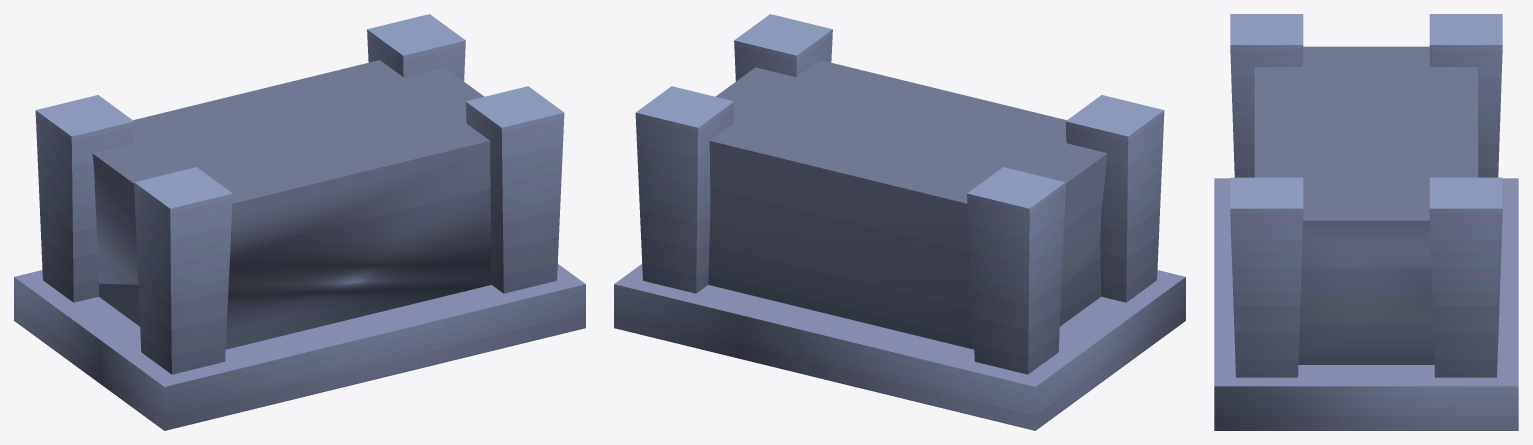
The model's file is altar-stone.glb.
The picture shows the model from 3 angles, left to right: view 1: azimuth 30°, elevation 25°; view 2: azimuth 150°, elevation 25°; view 3: azimuth 270°, elevation 25°; orthographic projection.
Visible parts, largest first — view 1: altar-stone; view 2: altar-stone; view 3: altar-stone.
Part boxes in pixels (box(x1,y1,x2,y2)): altar-stone: box(14, 14, 585, 430); altar-stone: box(614, 14, 1185, 430); altar-stone: box(1214, 14, 1518, 430).
Size of the model in its own units: 1.01 by 0.4883 by 0.6248.
Materials: 1 (1 with a texture image).
